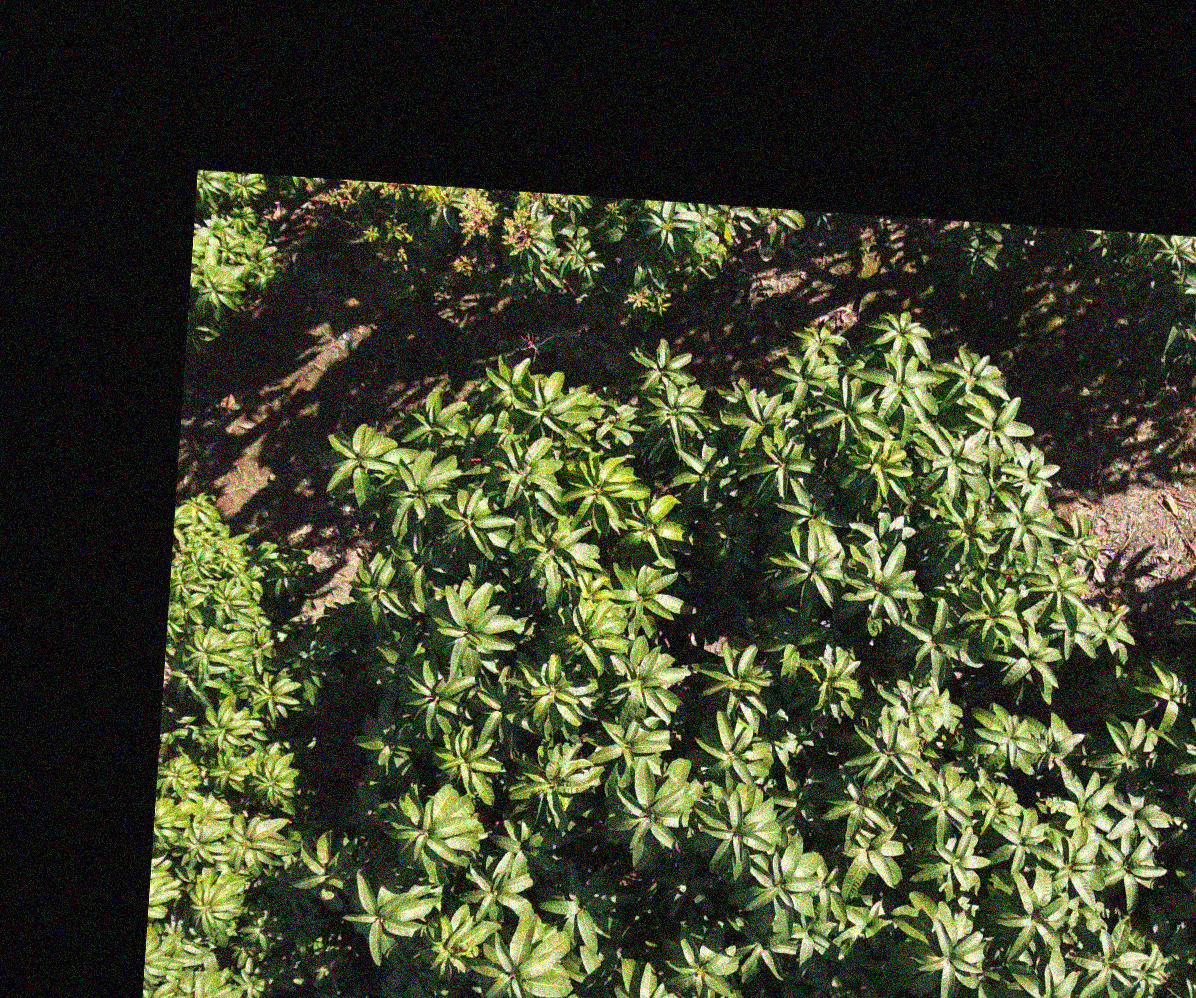flowers: (326, 180, 410, 211), (458, 187, 496, 244), (514, 192, 590, 214), (501, 206, 532, 255), (423, 185, 448, 208), (518, 191, 548, 205)
